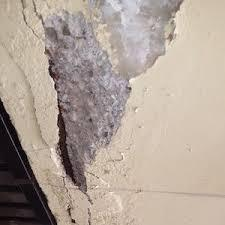spalling: (43, 0, 181, 191)
